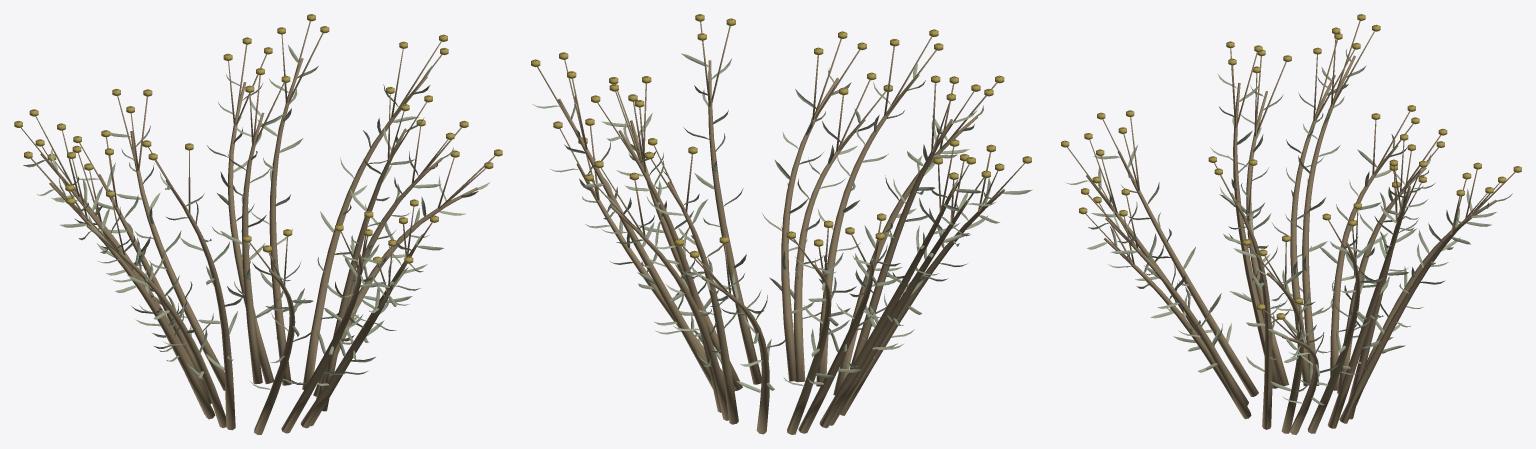
Rendered from Immortelle_0_Niveau0.fbx.
The picture shows the model from 3 angles, left to right: view 1: azimuth 30°, elevation 25°; view 2: azimuth 150°, elevation 25°; view 3: azimuth 270°, elevation 25°; orthographic projection. The views are drawn at different scales.
Visible parts, largest first — view 1: Immortelle_0_Niveau0_Jeu; view 2: Immortelle_0_Niveau0_Jeu; view 3: Immortelle_0_Niveau0_Jeu.
Part boxes in pixels (bbox=[...]): Immortelle_0_Niveau0_Jeu: bbox=[14, 14, 502, 434]; Immortelle_0_Niveau0_Jeu: bbox=[531, 14, 1032, 434]; Immortelle_0_Niveau0_Jeu: bbox=[1061, 14, 1521, 434].
Bounding box in the file's own units: 40.23 × 27.39 × 38.01.
